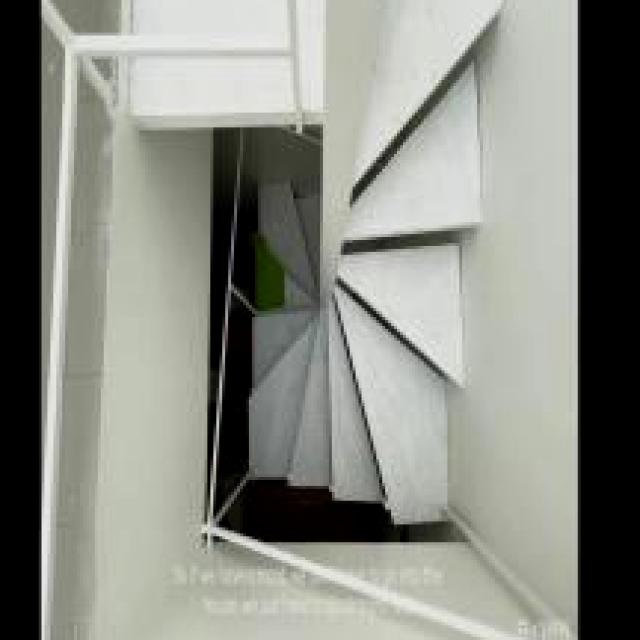downstair: (362, 117, 484, 546)
